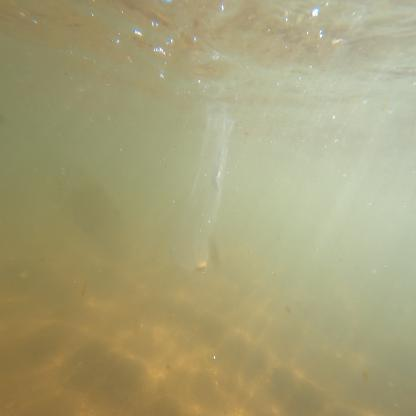Rác: (173, 104, 249, 292)
